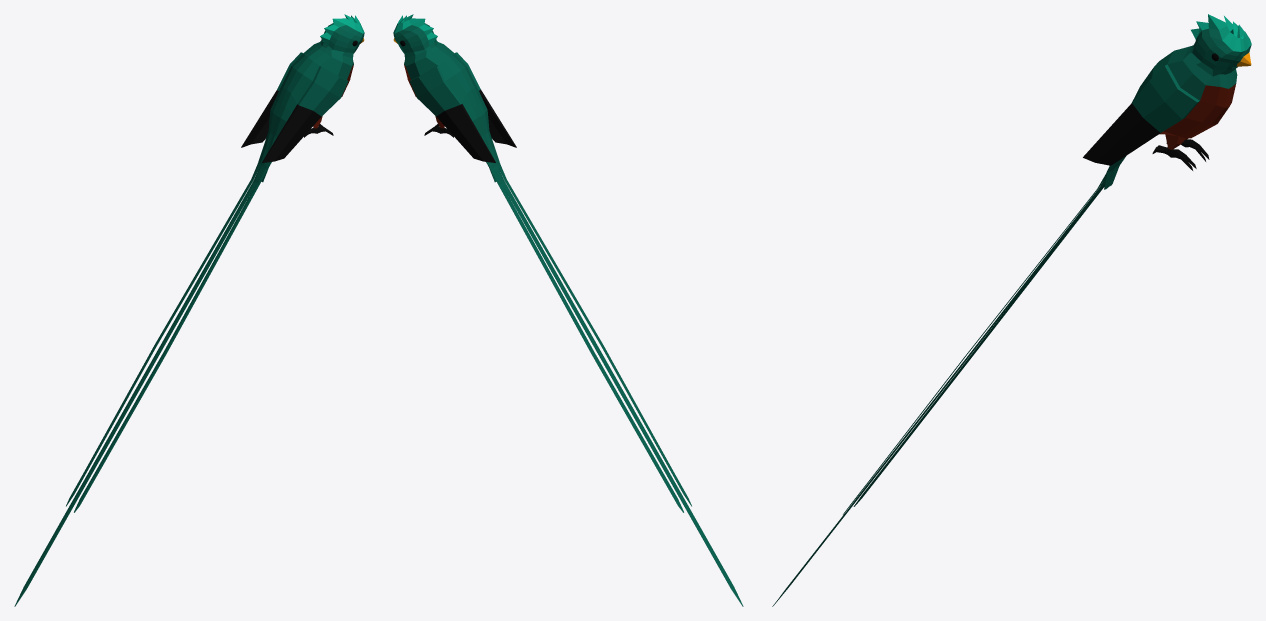
File: QuetzalPoseAnimation.fbx
3 views of the same model, side by side, from view 1: azimuth 30°, elevation 25°; view 2: azimuth 150°, elevation 25°; view 3: azimuth 330°, elevation 25° (orthographic). The views are drawn at different scales.
Visible parts, largest first — view 1: QuetzalPose; view 2: QuetzalPose; view 3: QuetzalPose.
Part boxes in pixels (x1=…): QuetzalPose: x1=14, y1=14, x2=364, y2=606; QuetzalPose: x1=393, y1=14, x2=743, y2=606; QuetzalPose: x1=772, y1=14, x2=1251, y2=606.
Bounding box in the file's own units: 1132 × 1585 × 163.
